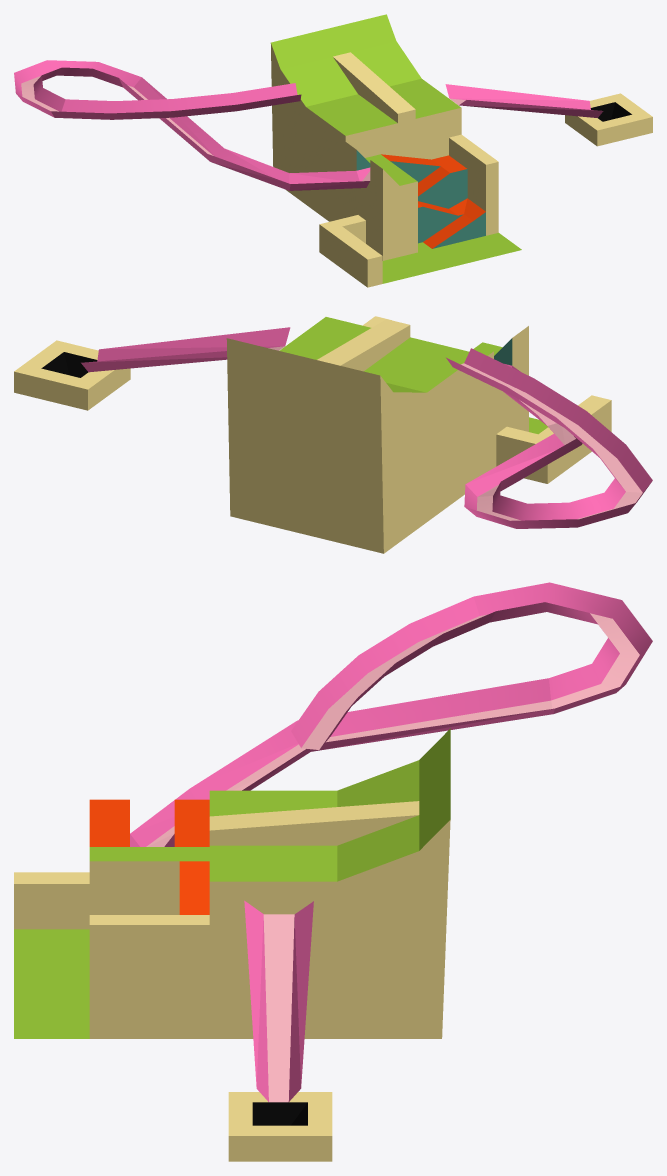
The picture shows the model from 3 angles, top to bottom: view 1: azimuth 30°, elevation 25°; view 2: azimuth 150°, elevation 25°; view 3: azimuth 270°, elevation 25°; orthographic projection. The views are drawn at different scales.
Visible parts, largest first — view 1: SketchUp (×16); view 2: SketchUp (×9); view 3: SketchUp (×15).
Boxes of the visible parts, box(x1,y1,x2,y2) form: SketchUp (×16): box(14, 14, 652, 287); SketchUp (×9): box(14, 316, 652, 553); SketchUp (×15): box(14, 582, 652, 1161).
Size of the model in its own units: 70.91 by 45.36 by 17.2.
